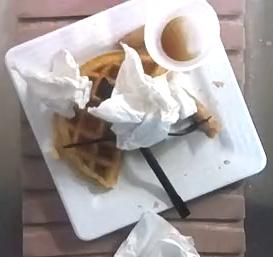waffle: (53, 108, 123, 188), (81, 48, 125, 107), (124, 30, 167, 77)
